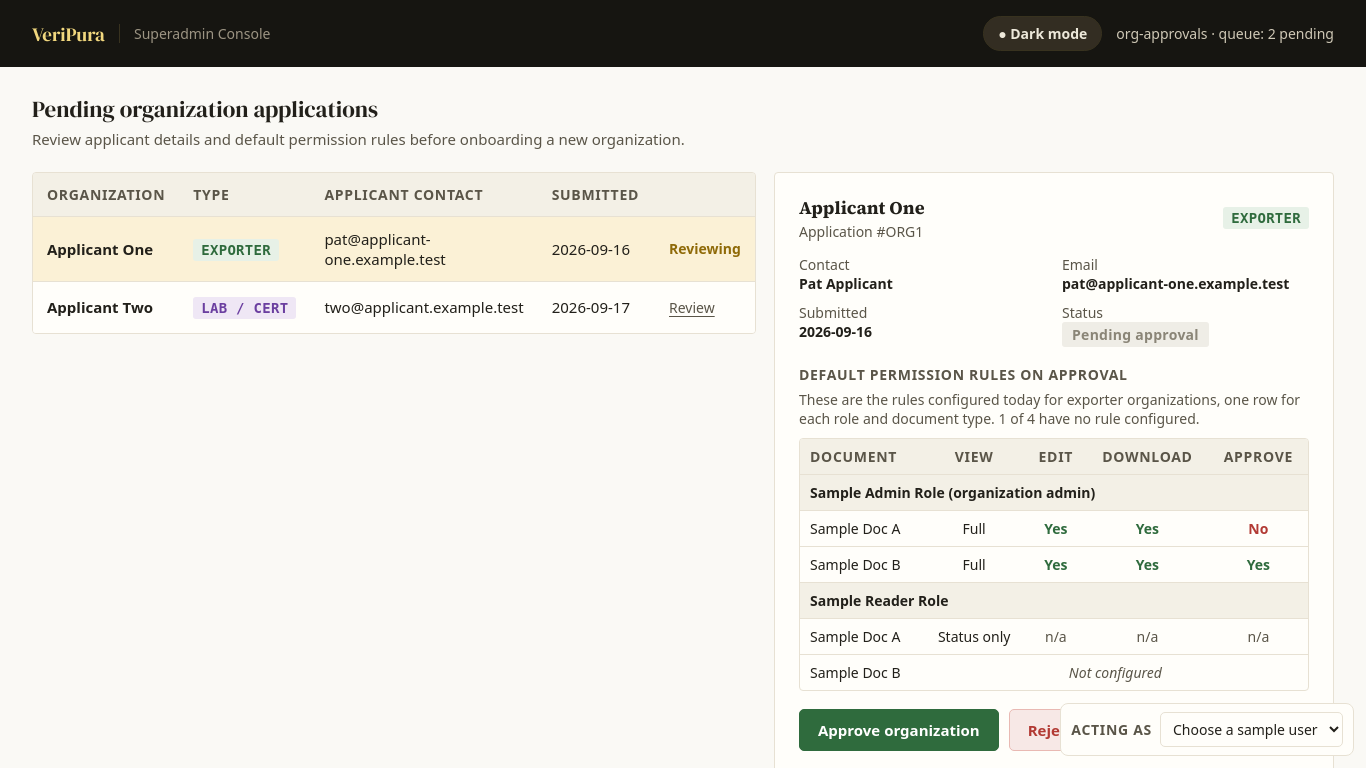
Test: approval: approving and rejecting › approves the selected organization, says so, and moves on to the next one
This screenshot has width=1366, height=768.
Click the button "Approve organization". click: [899, 730]
box: [799, 708, 999, 750]
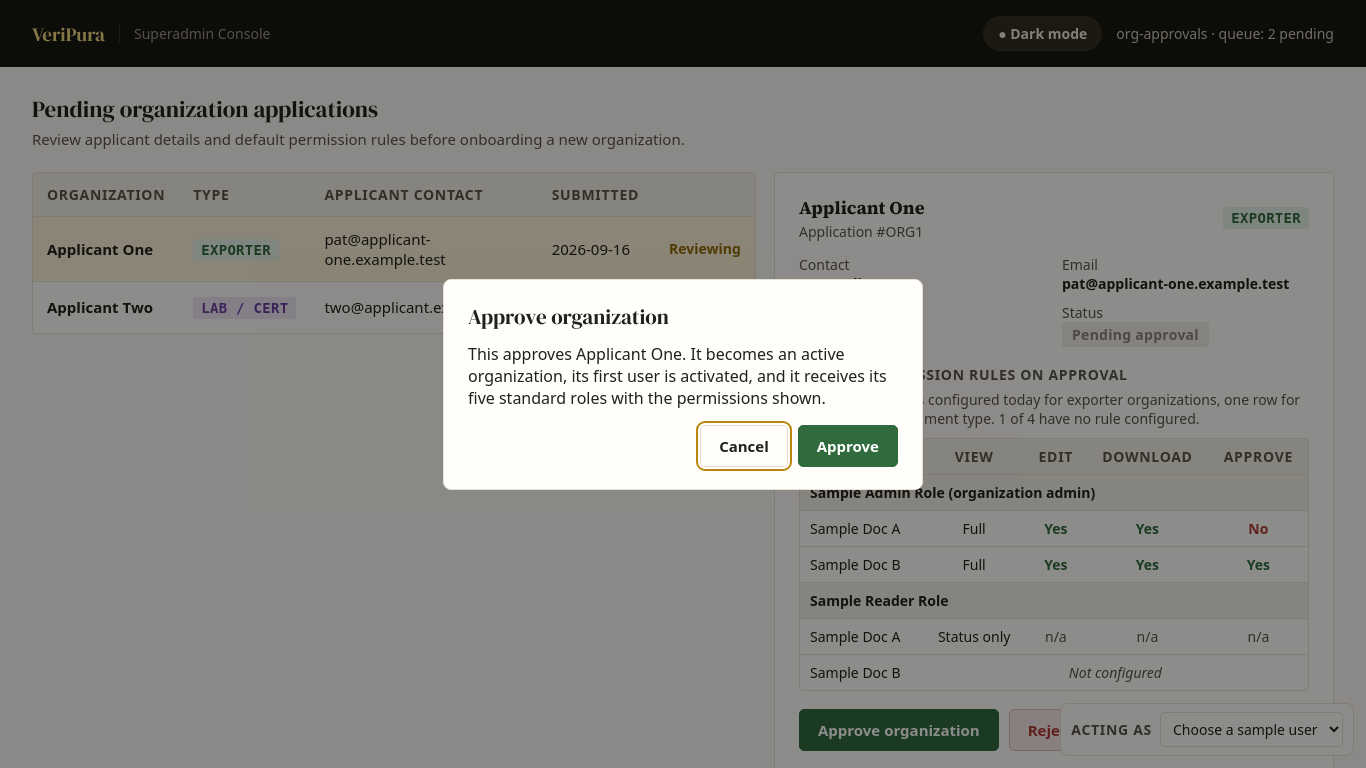
Click the button "Approve". click: [848, 446]
box: [798, 424, 898, 466]
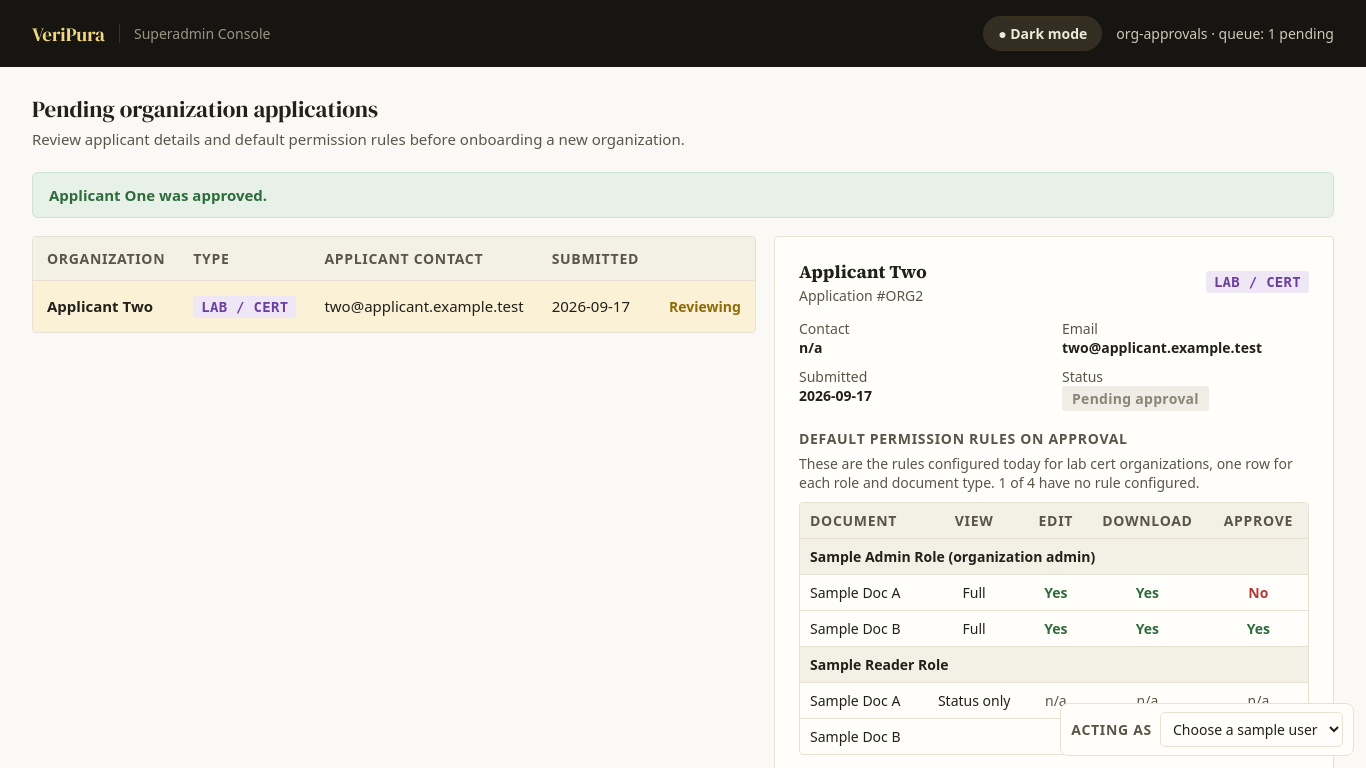
Expected: the message reads "Applicant One was approved.", [49, 184, 267, 204]
Expected: the text "org-approvals · queue: 1 pending" is shown, [1116, 24, 1334, 43]
Expected: the dialog is gone
